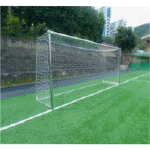goals: (34, 28, 122, 111)
